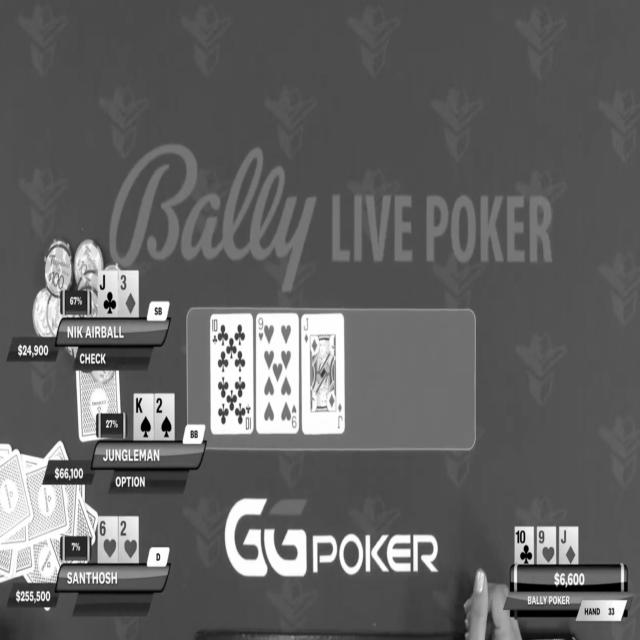2H: (118, 516, 139, 563)
2S: (154, 395, 174, 441)
3D: (119, 271, 139, 316)
6H: (97, 516, 119, 563)
9H: (537, 525, 557, 565)
JC: (97, 270, 119, 315)
JD: (558, 526, 579, 564)
KS: (134, 392, 155, 440)
